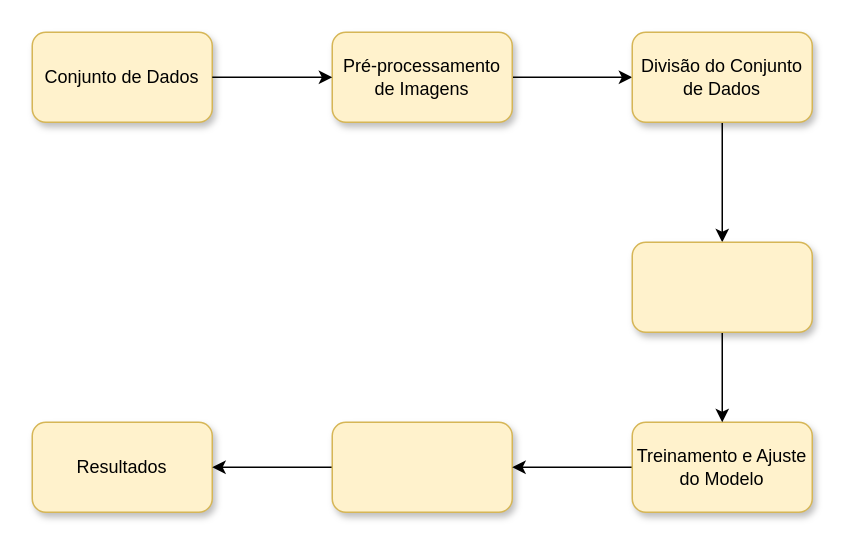
Some shapes in this 848 by 549 pixel diagram are drawn without their labels. The centre of each missing label's shape, as x and y in pixels:
"Arquiteturas de Redes Neurais" belongs at (x=723, y=289).
"Avaliação e Métricas" belongs at (x=423, y=469).
